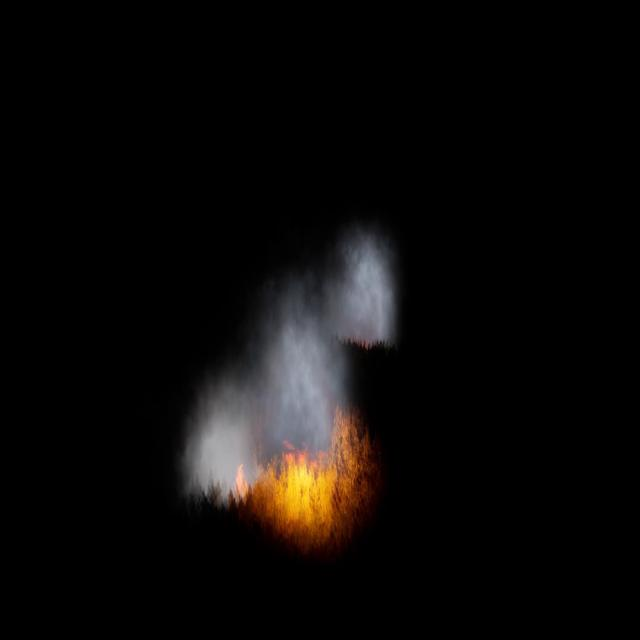fire: (232, 413, 378, 539)
smoke: (184, 223, 396, 503)
